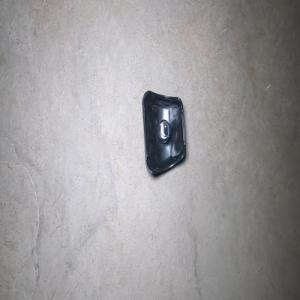LuggagePart: (141, 89, 186, 176)
